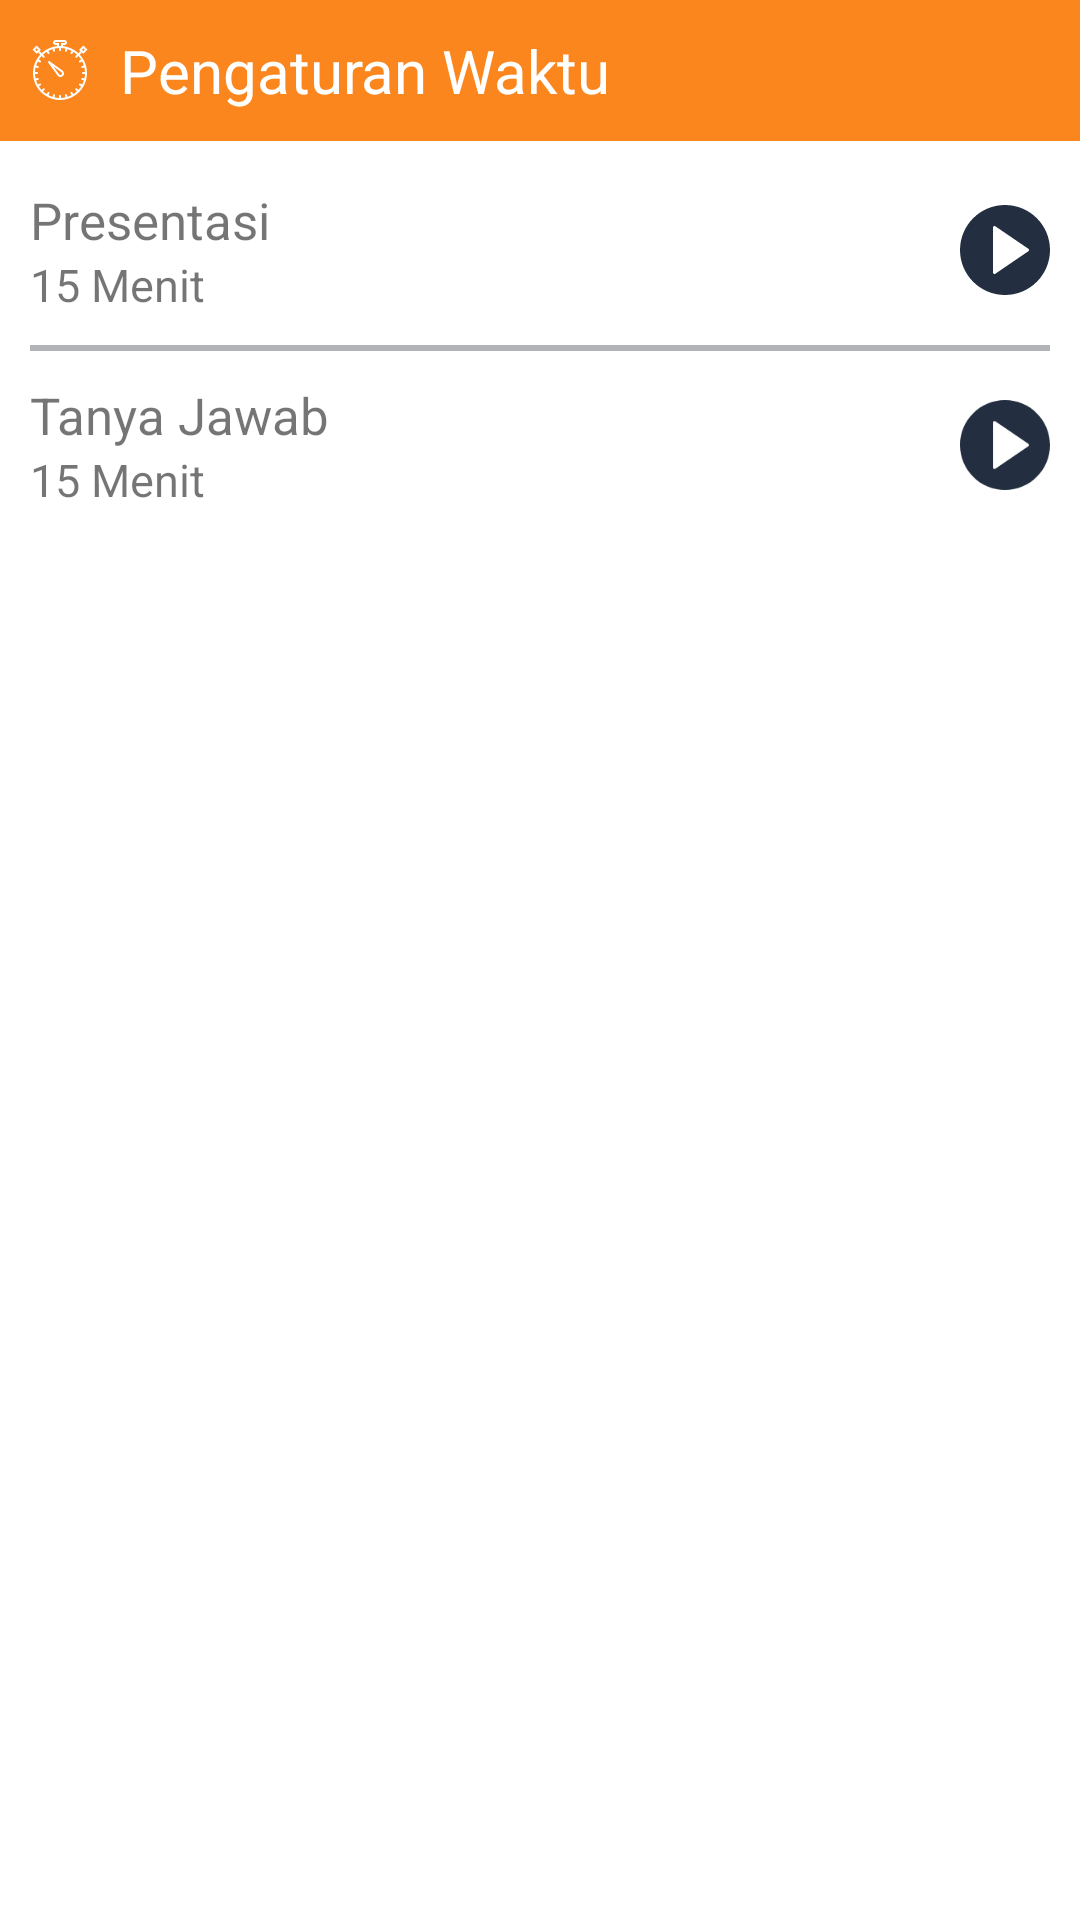

Icon click points for this 1080 x 1920 phone screenshot, format point (x, y):
play: point (1005, 250), point (1005, 445)
